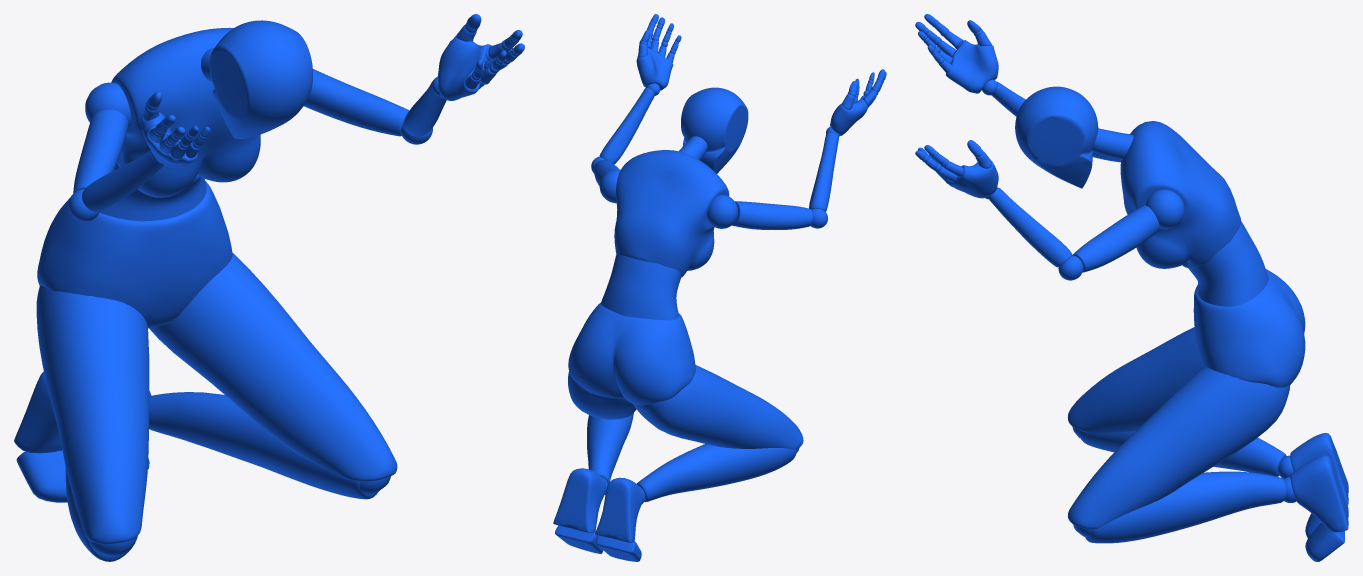
Rendered from Estatua.002.fbx.
3 views of the same model, side by side, from view 1: azimuth 30°, elevation 25°; view 2: azimuth 150°, elevation 25°; view 3: azimuth 270°, elevation 25° (orthographic). The views are drawn at different scales.
Visible parts, largest first — view 1: Adjustable Mannequin Mesh; view 2: Adjustable Mannequin Mesh; view 3: Adjustable Mannequin Mesh.
Part boxes in pixels (x1,y1,x2,y2): Adjustable Mannequin Mesh: (14,14,524,561); Adjustable Mannequin Mesh: (553,14,886,561); Adjustable Mannequin Mesh: (915,14,1348,561).
Size of the model in its own units: 55.43 by 89.05 by 74.79.
